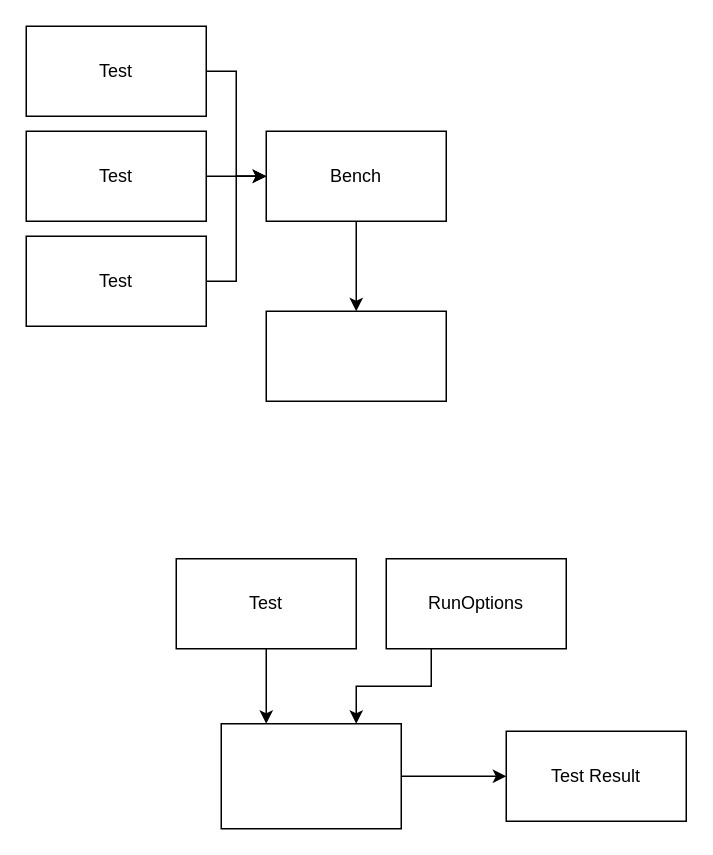
The diagram is 713 pixels wide and 855 high, and some of its shapes have lost their labels. Each missing label, with the centre of its shape:
run: [355,355]
runTest: [310,775]
